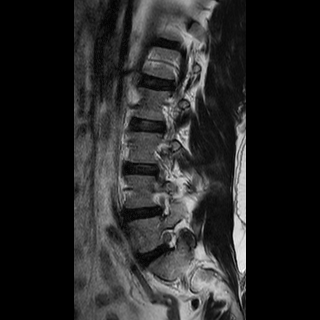RFS0: (155, 221, 184, 259)
